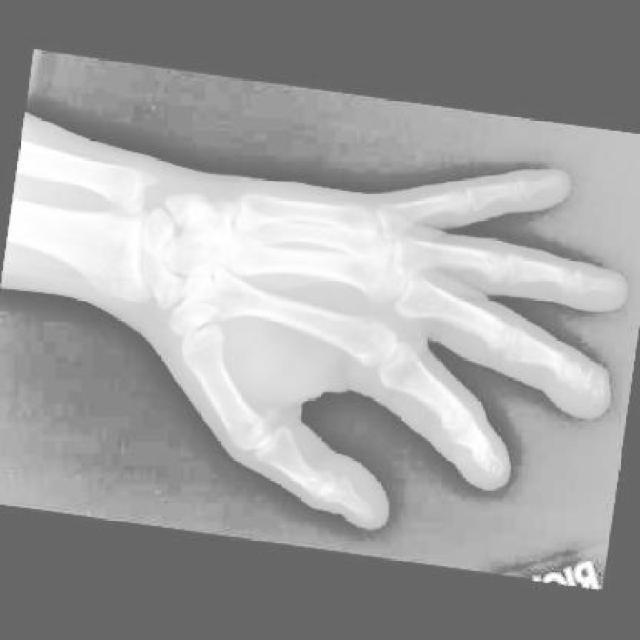Fracture: (574, 366, 614, 411), (482, 454, 513, 485)
